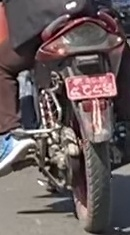license_plate: (66, 73, 117, 99)
